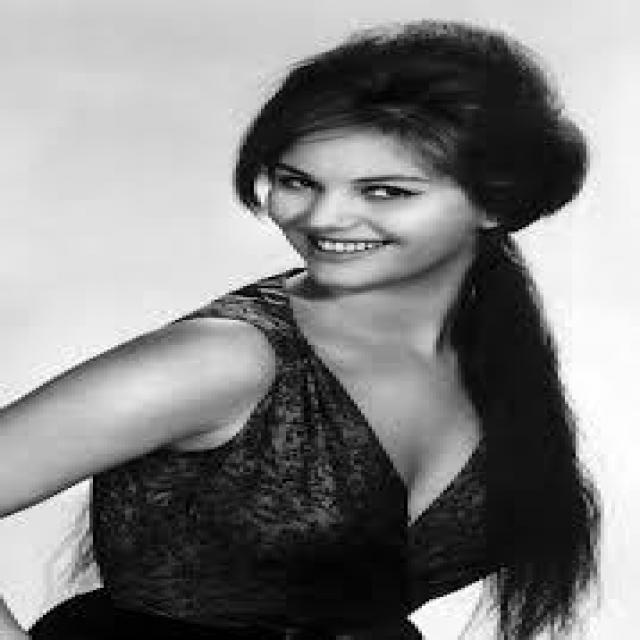person: (29, 18, 608, 638)
